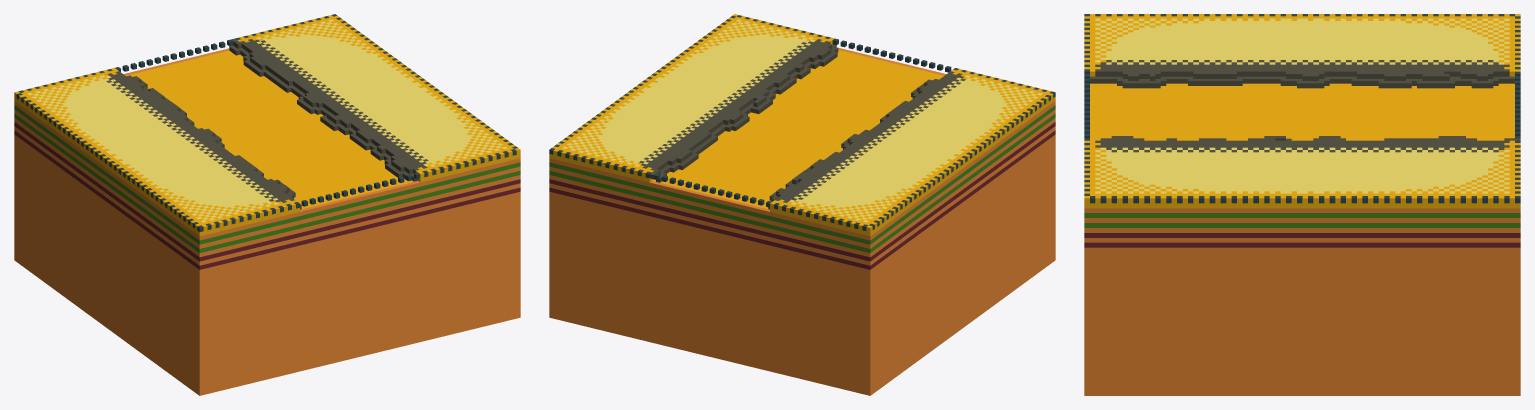
The model's file is sand_river_1_tile.obj.
3 renders of one model, left to right at view 1: azimuth 30°, elevation 25°; view 2: azimuth 150°, elevation 25°; view 3: azimuth 270°, elevation 25°, orthographic. The views are drawn at different scales.
Bounding box in the file's own units: 8 × 4 × 8.
Materials: 1 (1 with a texture image).
